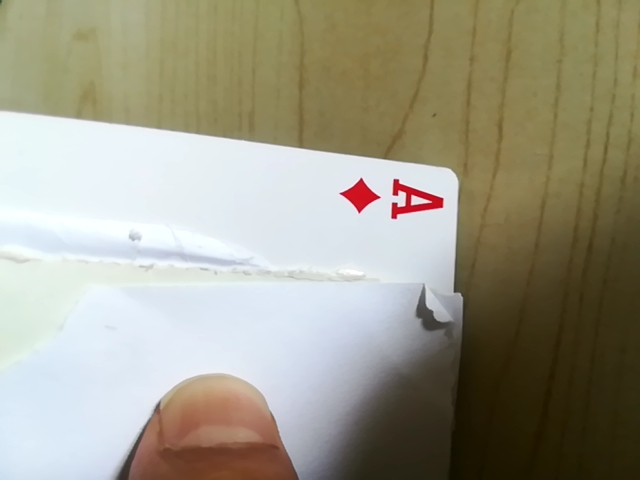fk a: (330, 168, 471, 232)
